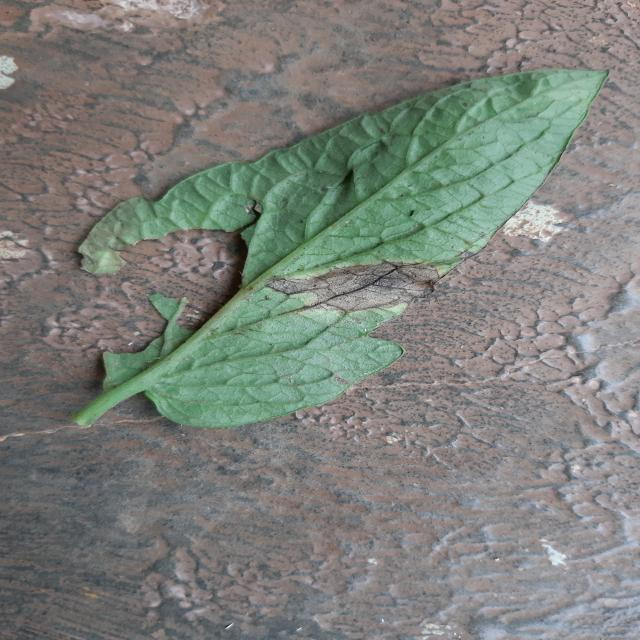defectedtomato: (267, 261, 440, 312)
tomato: (73, 70, 607, 428)
